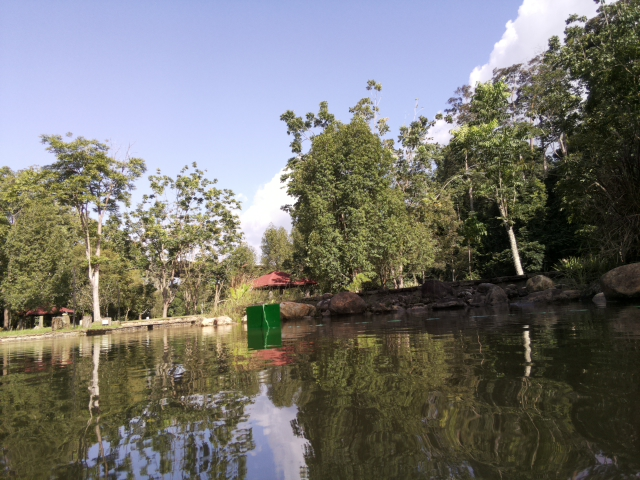obstacle: (245, 302, 283, 331)
